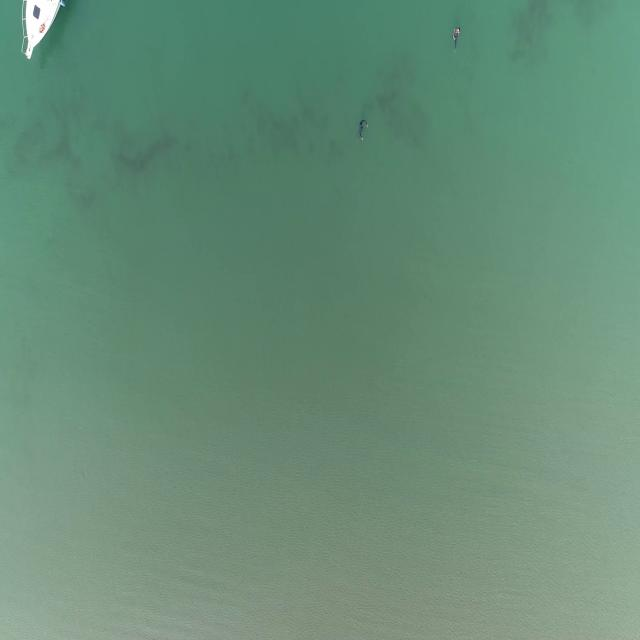boat: (20, 0, 65, 63)
person: (451, 24, 463, 52), (357, 118, 370, 141)
